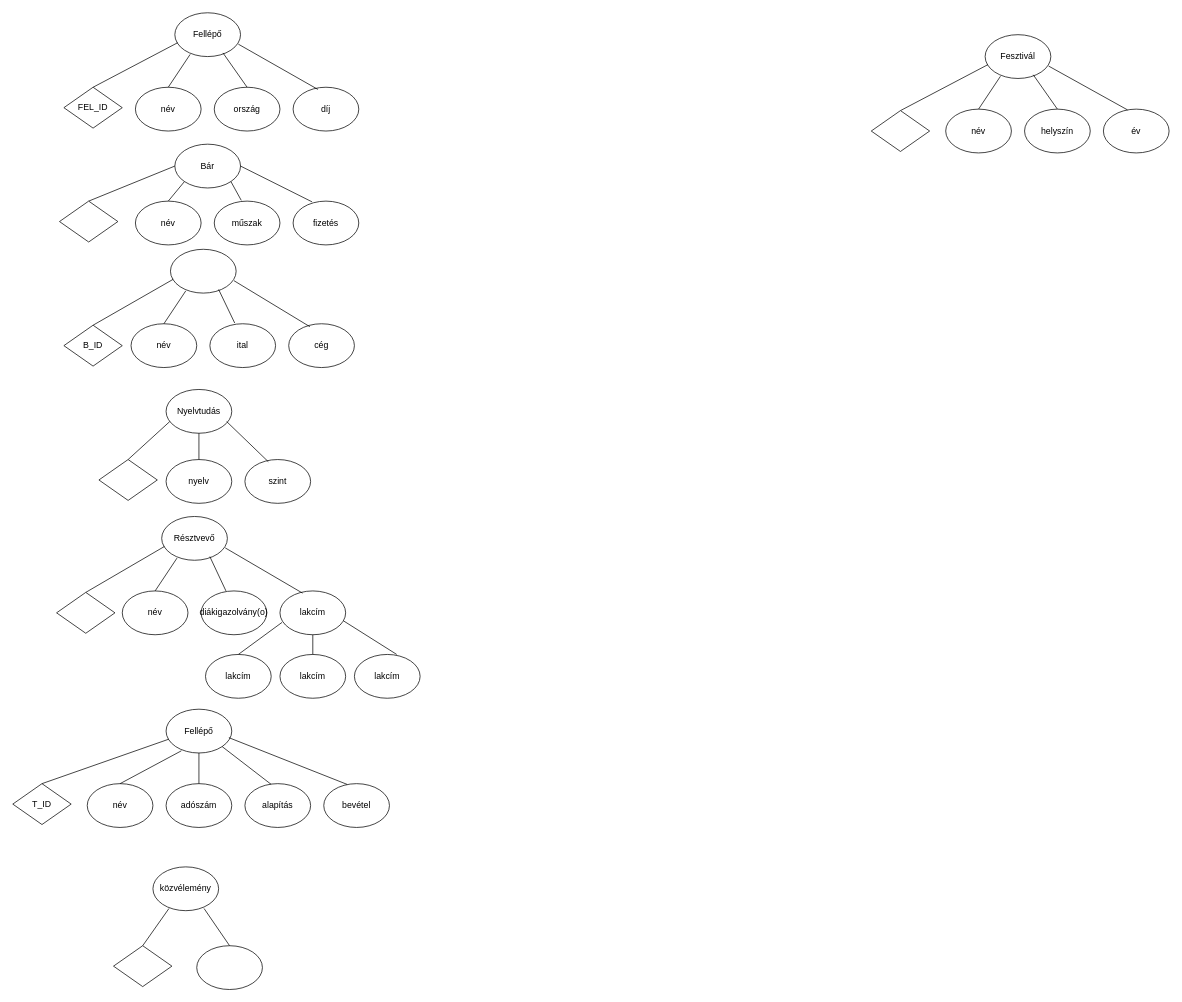
This 1182x1002 diagram has some shape labels left out. Each missing label, with the box of its shape:
A_ID: (59, 200, 118, 242)
Alkalmazott: (170, 249, 236, 293)
FESZ_ID: (871, 110, 930, 151)
K_ID: (113, 945, 172, 987)
kérdező: (196, 945, 262, 990)
NY_ID: (98, 459, 157, 500)
R_ID: (56, 592, 115, 633)
